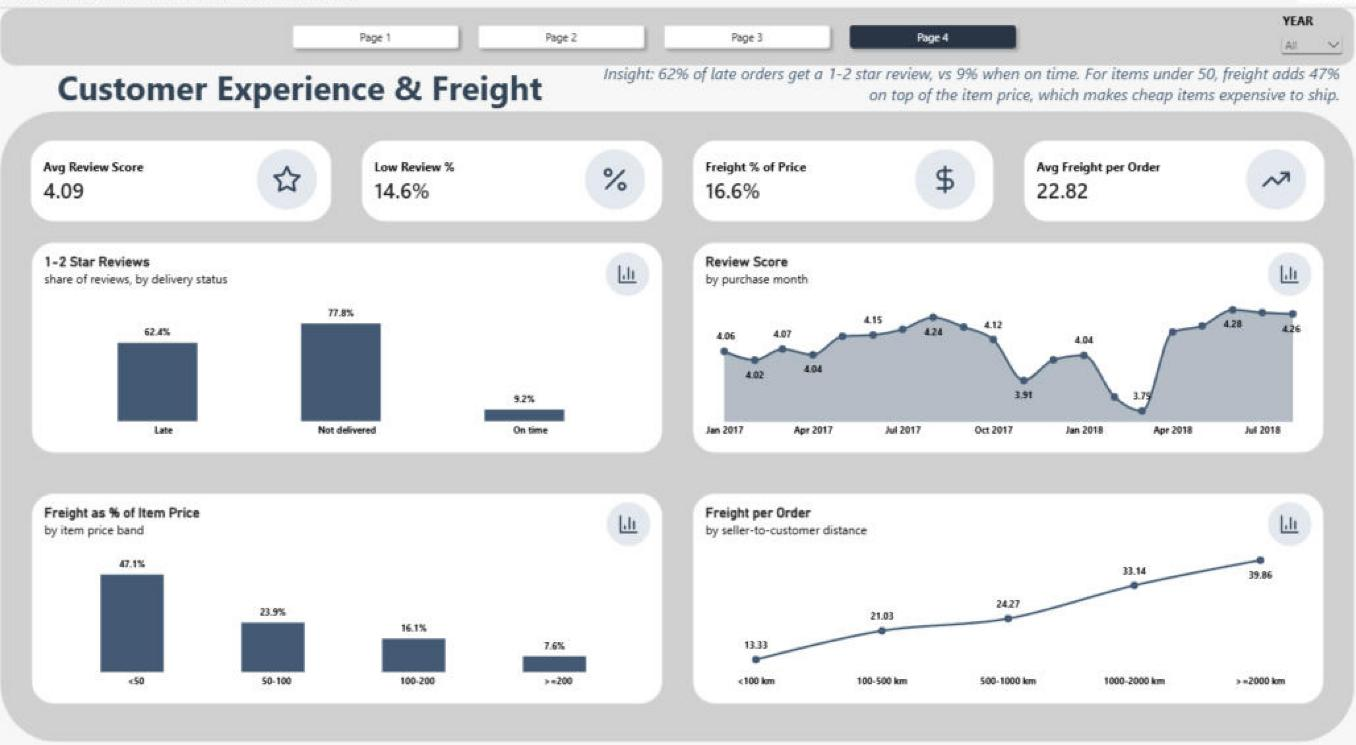

This screenshot's page, from the dashboard's own definition file:
{"tool":"powerbi","page":{"name":"Page 4","canvas":[1920,1080],"ordinal":3},"visuals":[{"type":"shape","box":[59.8,43.8,1800.4,75.9],"z":0},{"type":"shape","box":[59.8,180.9,1800.4,838.9],"z":0,"group":"g1"},{"type":"textbox","title":"Customer Experience & Freight","box":[135.6,119.4,978.4,61.9],"z":1000},{"type":"group","id":"g1","title":"Group 1","box":[59.8,180.9,1800.4,838.9],"z":2000},{"type":"cardVisual","fields":{"Data":["fact_orders.Avg Review Score"]},"box":[100,219.6,400,108.9],"z":3000,"group":"g1"},{"type":"image","box":[813.7,231.8,125.5,80.2],"z":3000},{"type":"slicer","fields":{"Values":["Calendar.Year"]},"box":[1757.1,49.9,93.1,63.2],"z":4000},{"type":"cardVisual","fields":{"Data":["fact_orders.Low Review %"]},"box":[540,219,400,108.9],"z":4000,"group":"g1"},{"type":"cardVisual","fields":{"Data":["fact_order_items.Freight % of Price"]},"box":[980,219,400,108.9],"z":5000,"group":"g1"},{"type":"image","box":[848.7,368.4,90,57.6],"z":5000},{"type":"cardVisual","fields":{"Data":["fact_orders.Avg Freight per Order"]},"box":[1420,219,400,108.9],"z":6000,"group":"g1"},{"type":"image","box":[1728.4,368.4,90,57.6],"z":6000},{"type":"columnChart","title":"1-2 Star Reviews","fields":{"Category":["fact_orders.Delivery Status"],"Y":["fact_orders.Low Review %"]},"box":[100.7,355.7,838.9,279.8],"z":7000,"group":"g1"},{"type":"image","box":[1729.6,701,90,57.6],"z":7000},{"type":"areaChart","title":"Review Score","fields":{"Category":["Calendar.Month Start"],"Y":["fact_orders.Avg Review Score"]},"box":[980.4,355.7,838.9,279.8],"z":8000,"group":"g1"},{"type":"image","box":[850.1,701,90,57.6],"z":8000},{"type":"image","box":[377.2,231.8,125.5,80.2],"z":9000},{"type":"columnChart","title":"Freight as % of Item Price","fields":{"Category":["fact_order_items.Price Band"],"Y":["fact_order_items.Freight % of Price"]},"box":[100.7,689.5,838.9,279.8],"z":9000,"group":"g1"},{"type":"pageNavigator","box":[439.1,56.9,980.4,49.6],"z":10000},{"type":"lineChart","title":"Freight per Order","fields":{"Category":["fact_orders.Distance Band"],"Y":["fact_orders.Avg Freight per Order"]},"box":[980.4,689.5,838.9,279.8],"z":10000,"group":"g1"},{"type":"image","box":[1693.3,231.8,125.5,80.2],"z":11000},{"type":"image","box":[1253.5,231.8,125.5,80.2],"z":12000},{"type":"textbox","title":"Insight: 62% of late orders get a 1-2 star review, vs 9% when on time. For items under 50, freight adds 47% on top of the item price, which makes cheap items expensive to ship.","box":[840,116,1000,64],"z":14000}]}

Visuals, with their boxes in screenshot pixels (x1, y1, x2, y2), scaled from the page's 1920x1080 canvas onto the 1356x745 screenshot:
shape: [left=42, top=30, right=1314, bottom=83]
shape: [left=42, top=125, right=1314, bottom=703]
"Customer Experience & Freight" textbox: [left=96, top=82, right=787, bottom=125]
"Group 1" group: [left=42, top=125, right=1314, bottom=703]
cardVisual - fact_orders.Avg Review Score: [left=71, top=151, right=353, bottom=227]
image: [left=575, top=160, right=663, bottom=215]
slicer - Calendar.Year: [left=1241, top=34, right=1307, bottom=78]
cardVisual - fact_orders.Low Review %: [left=381, top=151, right=664, bottom=226]
cardVisual - fact_order_items.Freight % of Price: [left=692, top=151, right=975, bottom=226]
image: [left=599, top=254, right=663, bottom=294]
cardVisual - fact_orders.Avg Freight per Order: [left=1003, top=151, right=1285, bottom=226]
image: [left=1221, top=254, right=1284, bottom=294]
"1-2 Star Reviews" columnChart: [left=71, top=245, right=664, bottom=438]
image: [left=1222, top=484, right=1285, bottom=523]
"Review Score" areaChart: [left=692, top=245, right=1285, bottom=438]
image: [left=600, top=484, right=664, bottom=523]
image: [left=266, top=160, right=355, bottom=215]
"Freight as % of Item Price" columnChart: [left=71, top=476, right=664, bottom=669]
pageNavigator: [left=310, top=39, right=1003, bottom=73]
"Freight per Order" lineChart: [left=692, top=476, right=1285, bottom=669]
image: [left=1196, top=160, right=1285, bottom=215]
image: [left=885, top=160, right=974, bottom=215]
"Insight: 62% of late orders get a 1-2 star review, vs 9% when on time. For items under 50, freight adds 47% on top of the item price, which makes cheap items expensive to ship." textbox: [left=593, top=80, right=1300, bottom=124]
